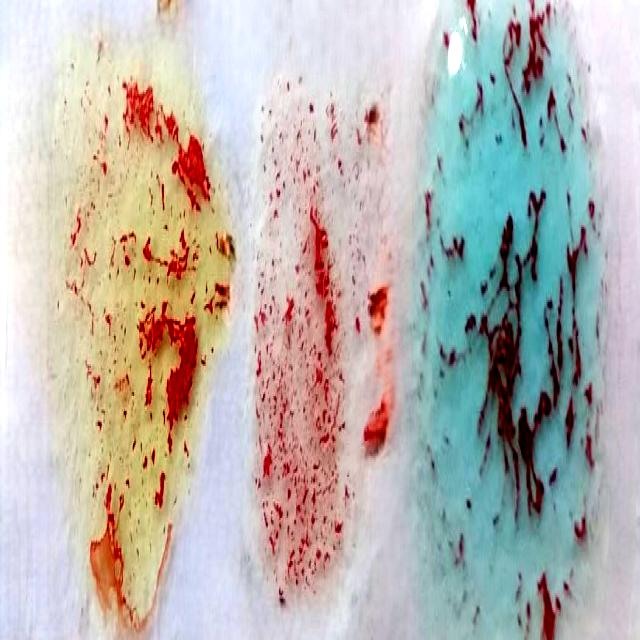A: (420, 0, 610, 640)
B: (58, 33, 212, 626)
D: (246, 68, 378, 634)
